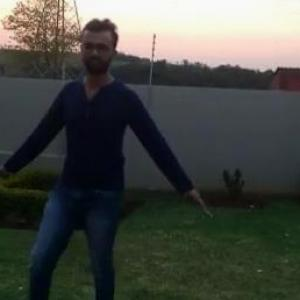land: (2, 44, 191, 294)
